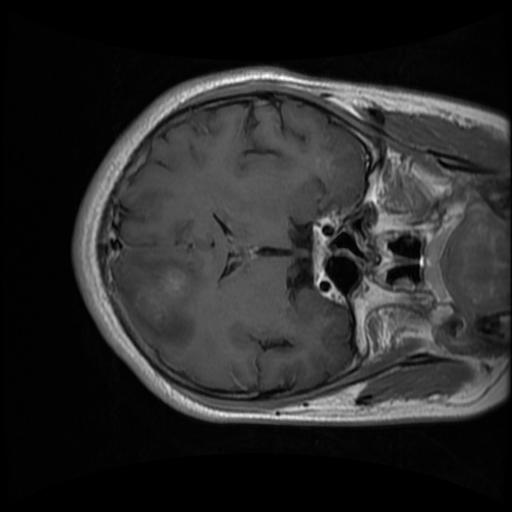glioma: (114, 251, 208, 358)
